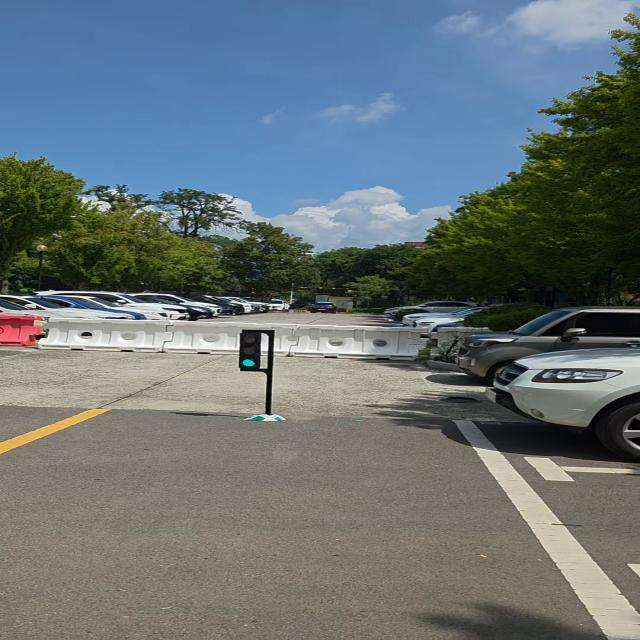green: (240, 330, 265, 371)
